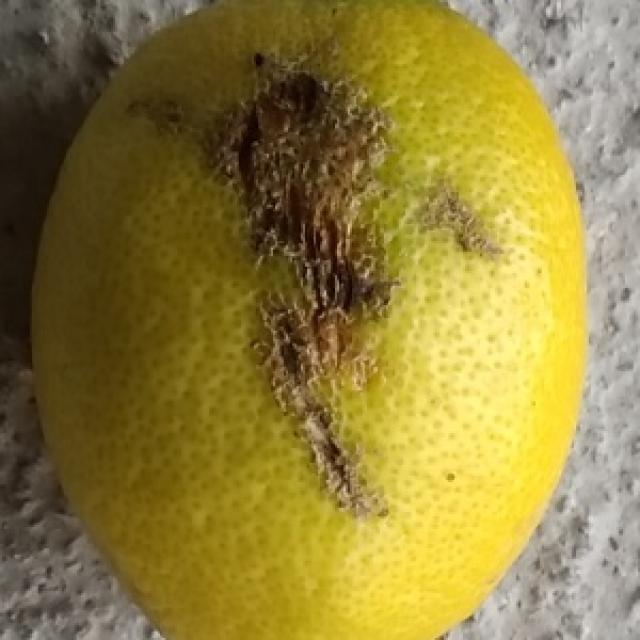overripe: (12, 3, 600, 640)
